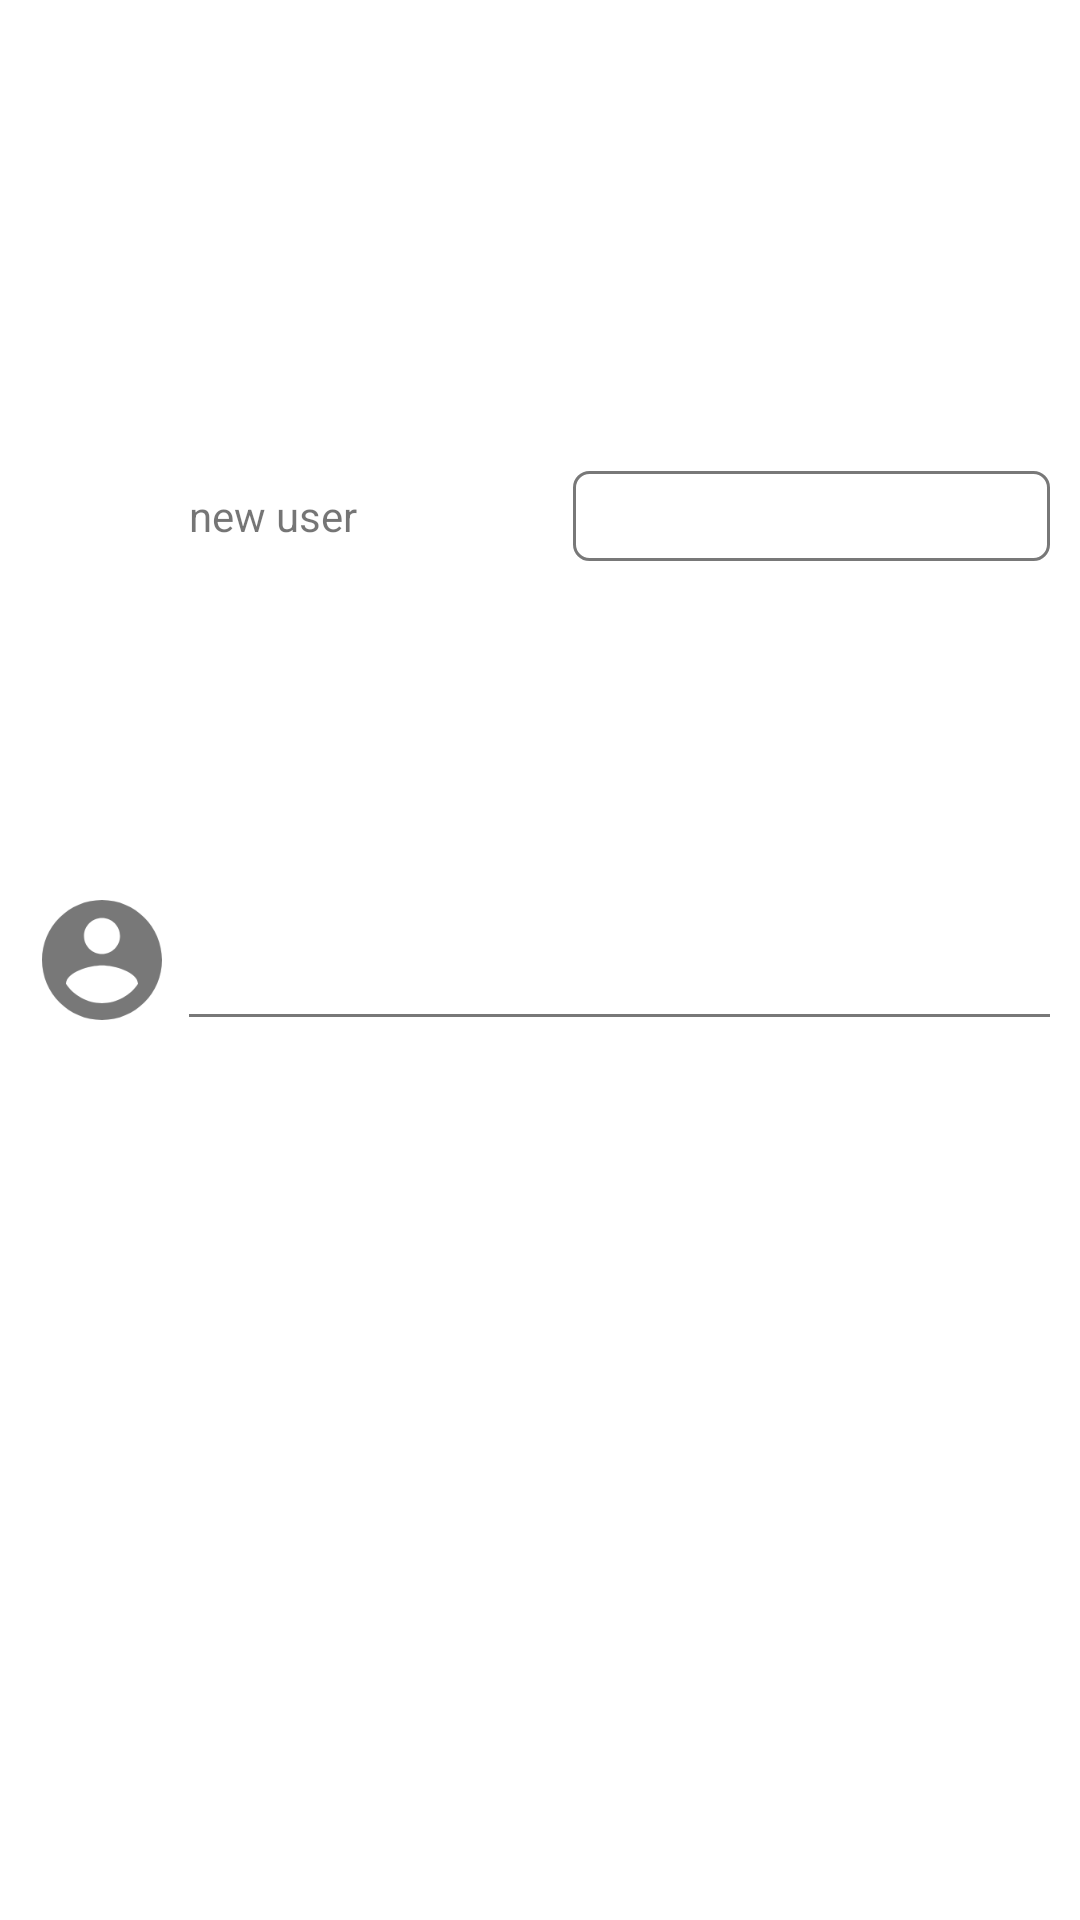

Icons on this 1080w x 1920h Android screen, each with its box as (x1, y1, x2, y2):
account circle: (42, 900, 162, 1020)
